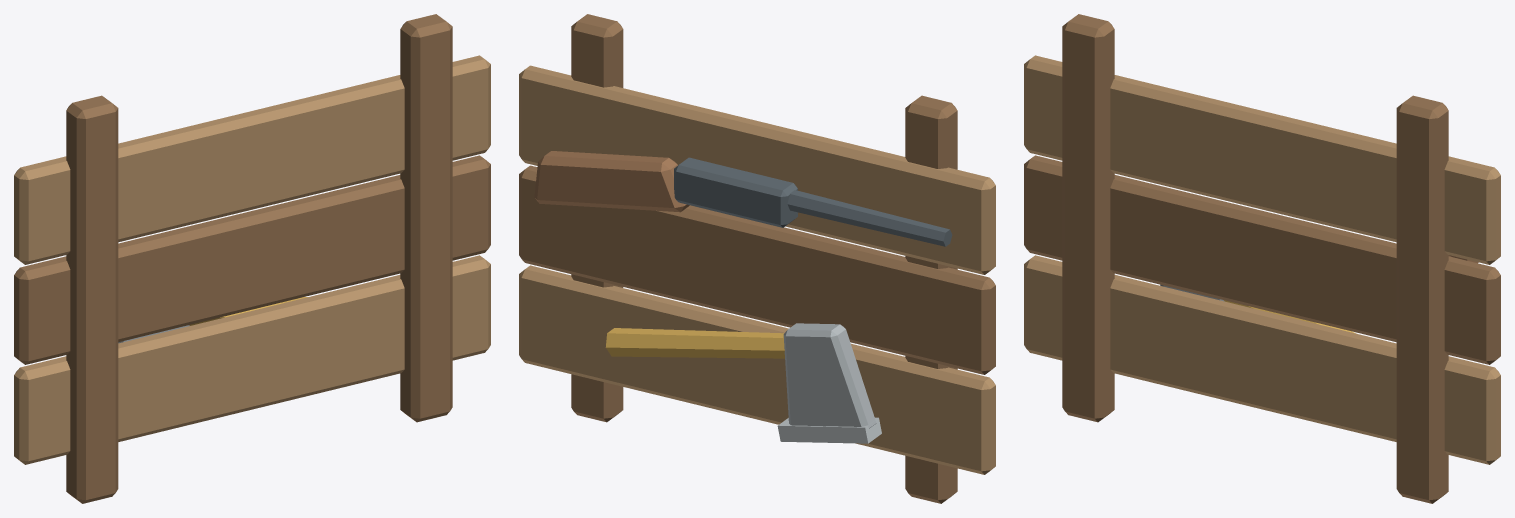
The model's file is BUILD0048_WeaponDisplayRack.fbx.
3 renders of one model, left to right at view 1: azimuth 30°, elevation 25°; view 2: azimuth 150°, elevation 25°; view 3: azimuth 330°, elevation 25°, orthographic.
Visible parts, largest first — view 1: BUILD0048_WeaponDisplayRack; view 2: BUILD0048_WeaponDisplayRack; view 3: BUILD0048_WeaponDisplayRack.
Part boxes in pixels (<box>): BUILD0048_WeaponDisplayRack: <box>14,14,490,503</box>; BUILD0048_WeaponDisplayRack: <box>519,14,995,503</box>; BUILD0048_WeaponDisplayRack: <box>1024,14,1500,503</box>.
Size of the model in its own units: 1.58 by 1.26 by 0.23.
